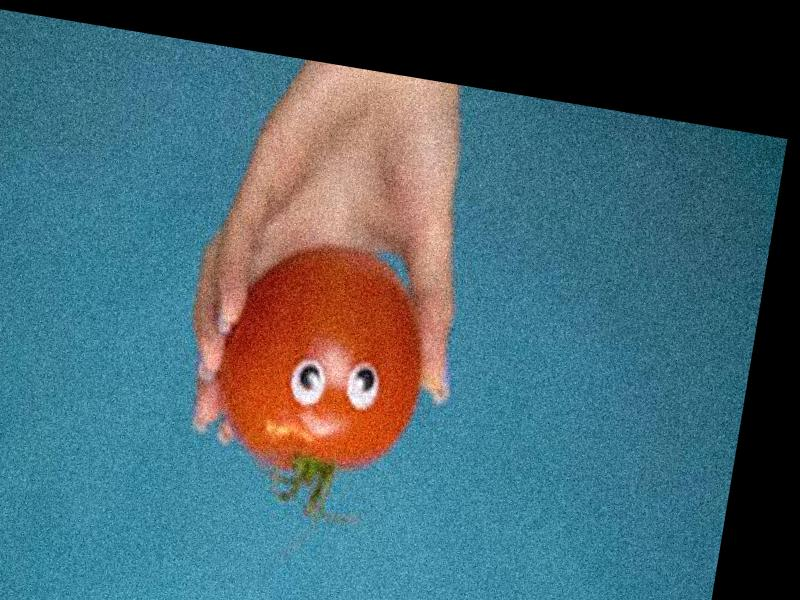Tomato: (203, 229, 442, 491)
